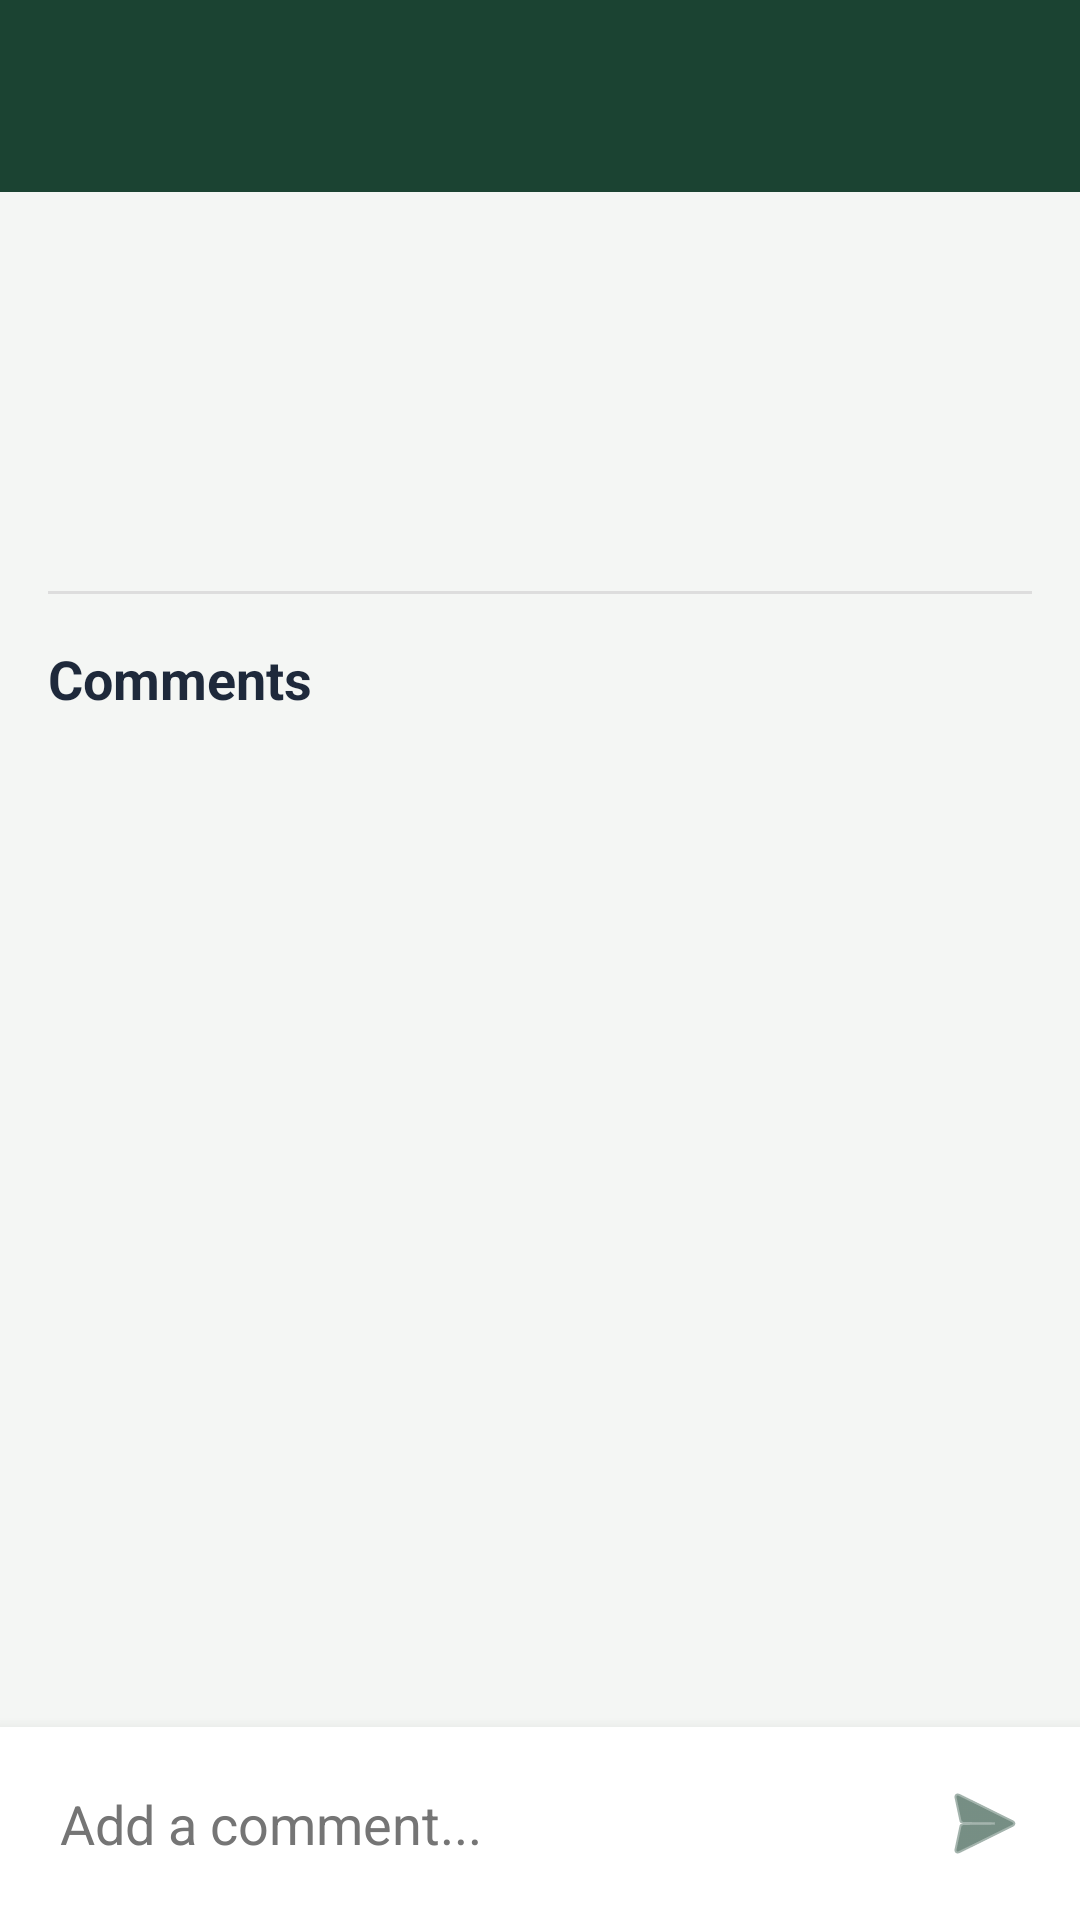

Screen size 1080px x 1920px. Icon name, then its box in pixels as (x1=x1, y1=y1, x2=x2, y2=y2):
send: (x1=954, y1=1793, x2=1016, y2=1854)
